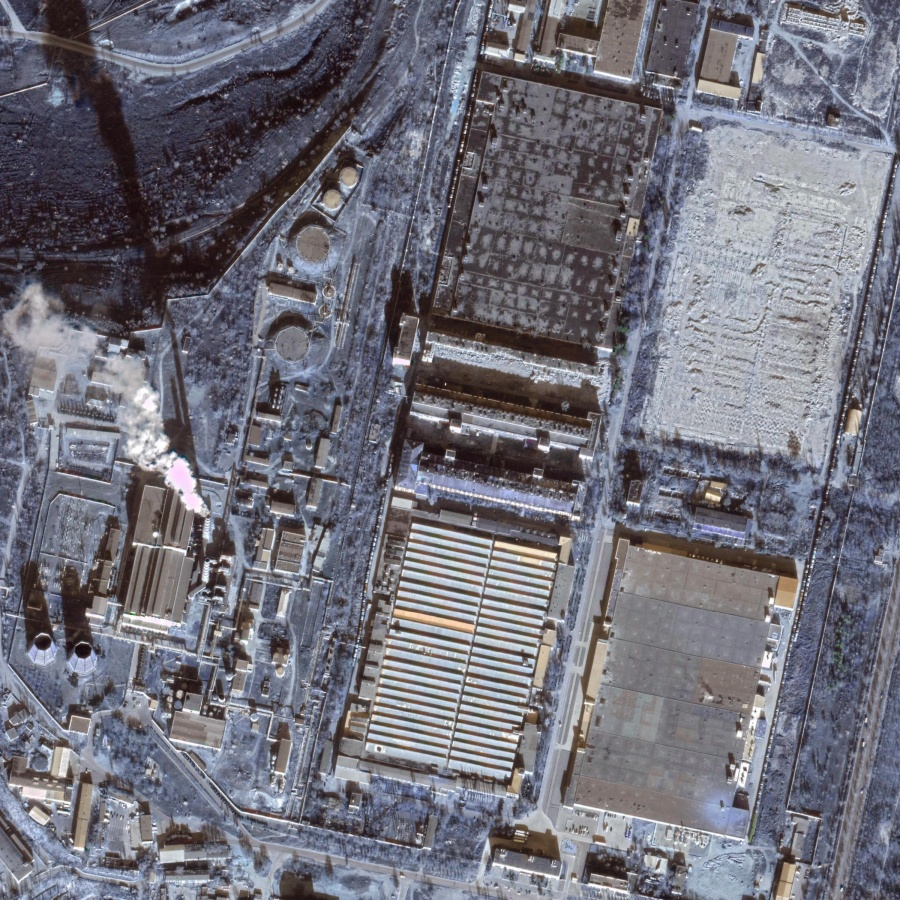PowerPlant: (14, 426, 237, 687)
